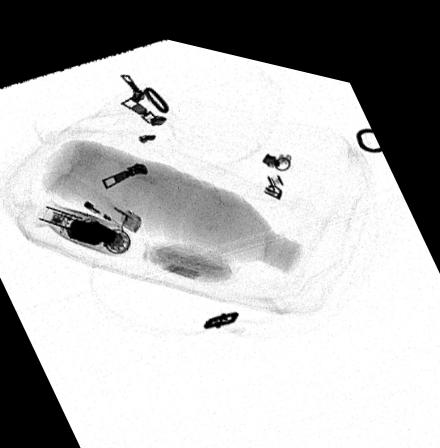Lighter: (51, 169, 142, 227)
